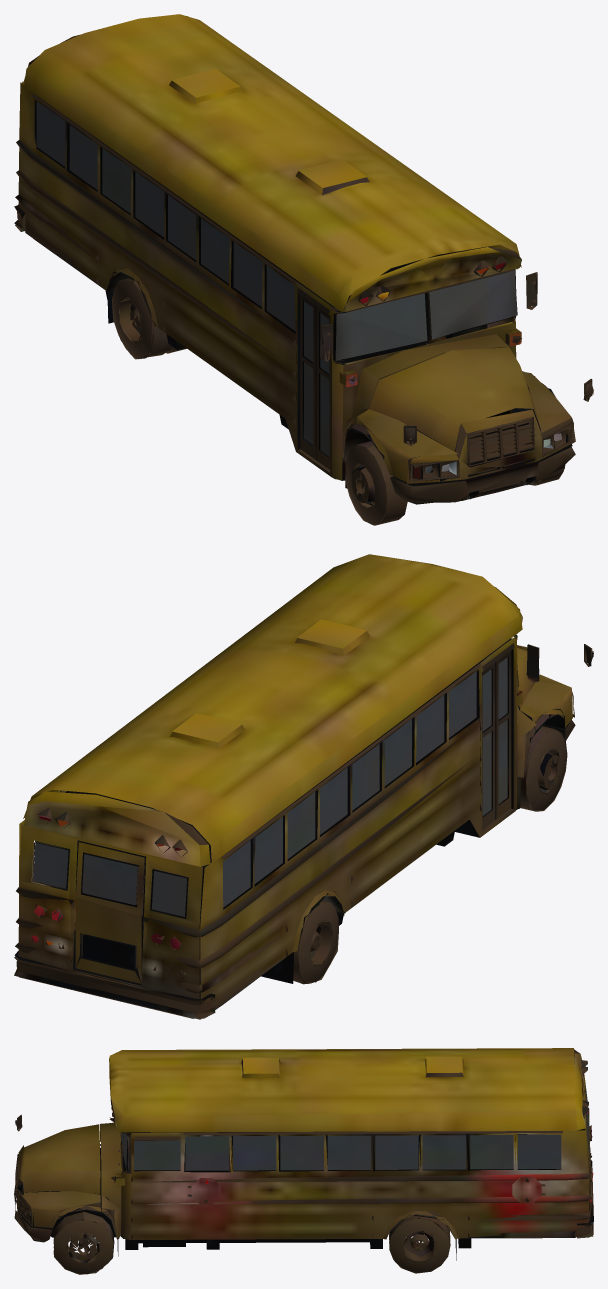
The model's file is pack-school-bus-L3.glb.
3 renders of one model, top to bottom at view 1: azimuth 30°, elevation 25°; view 2: azimuth 150°, elevation 25°; view 3: azimuth 270°, elevation 25°, orthographic. The views are drawn at different scales.
Parts seen in each view (by area): view 1: body; view 2: body; view 3: body.
Part boxes in pixels (x1,y1,x2,y2): body: [14, 14, 593, 525]; body: [14, 554, 593, 1019]; body: [14, 1048, 593, 1274].
Size of the model in its own units: 2.55 by 2.67 by 7.93.
Materials: 1 (1 with a texture image).
